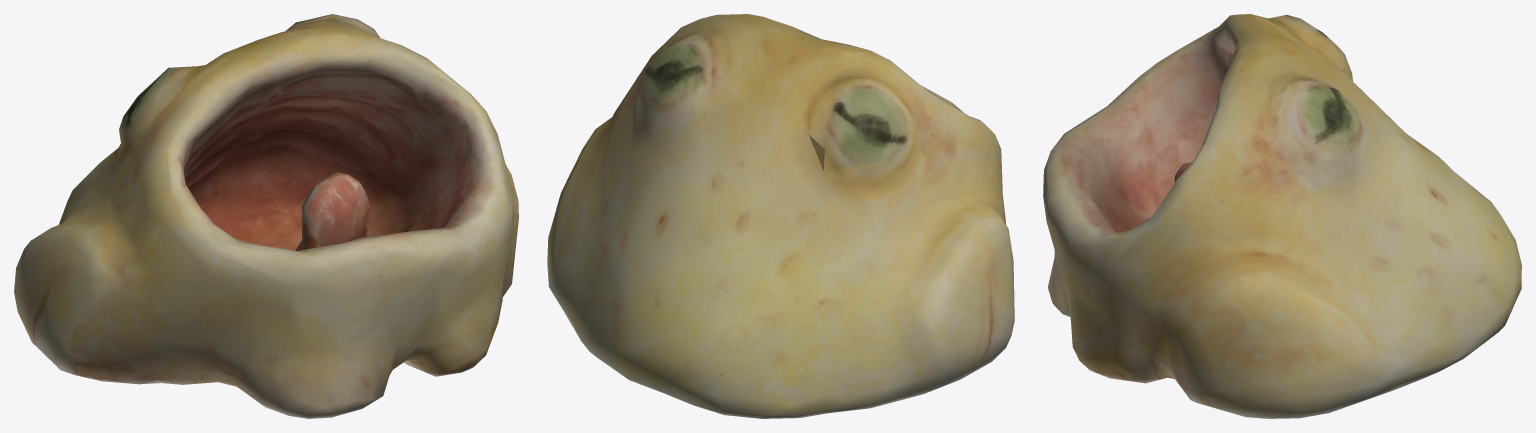
The model's file is RanaWebLOD1.glb.
The picture shows the model from 3 angles, left to right: view 1: azimuth 30°, elevation 25°; view 2: azimuth 150°, elevation 25°; view 3: azimuth 270°, elevation 25°; orthographic projection. The views are drawn at different scales.
Visible parts, largest first — view 1: rana_Web1k; view 2: rana_Web1k; view 3: rana_Web1k.
Part boxes in pixels (x1,y1,x2,y2): rana_Web1k: (14, 14, 518, 418); rana_Web1k: (547, 14, 1014, 418); rana_Web1k: (1043, 14, 1521, 418).
Size of the model in its own units: 0.06 by 0.0379 by 0.0567.
1 material, 1 textured.
